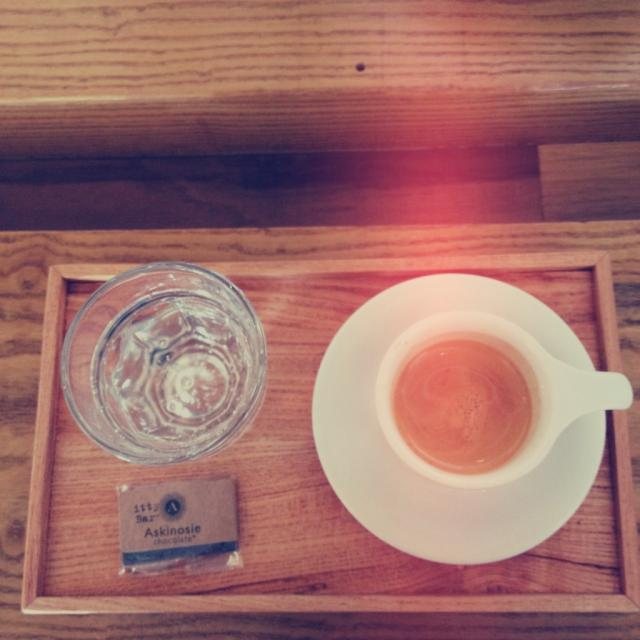Coffee: (386, 338, 532, 472)
